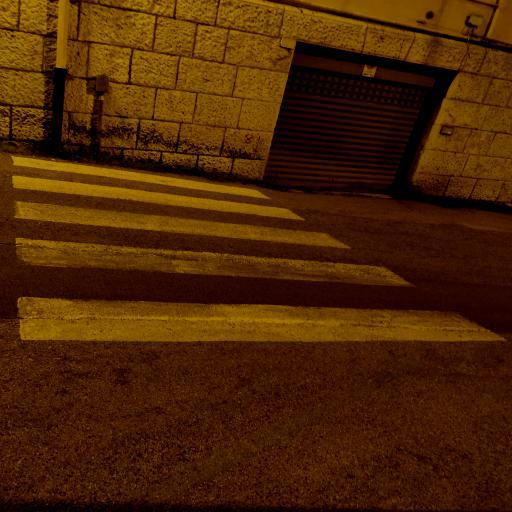crosswalk: (0, 233, 510, 355), (2, 152, 308, 223)
